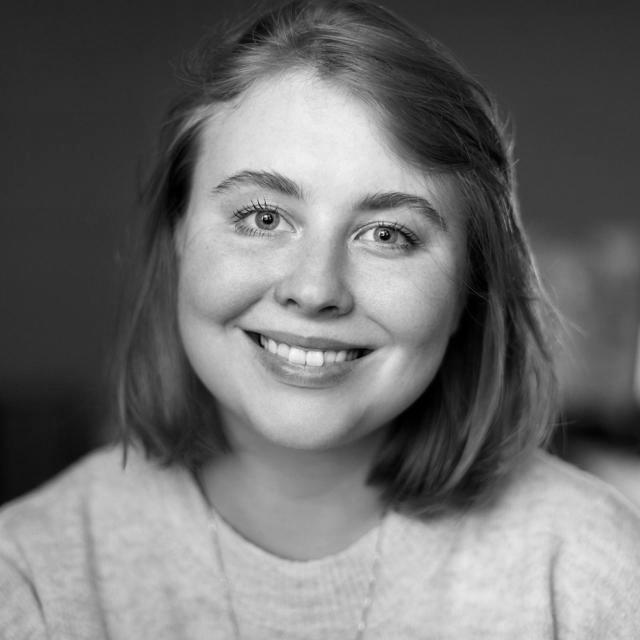Happiness: (173, 80, 465, 453)
